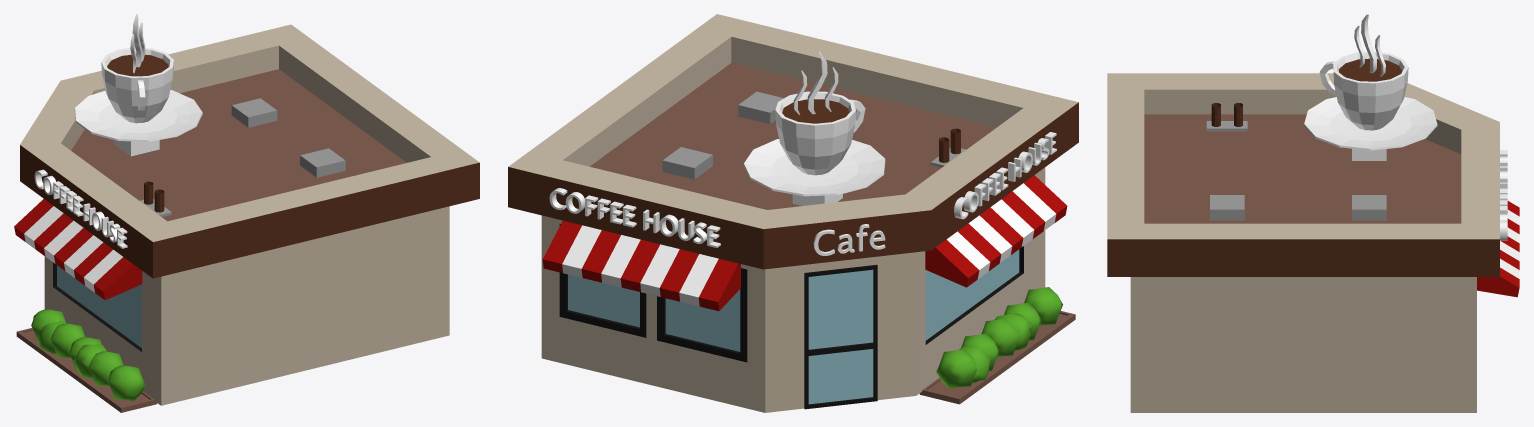
Rendered from Shop_2.fbx.
The picture shows the model from 3 angles, left to right: view 1: azimuth 30°, elevation 25°; view 2: azimuth 150°, elevation 25°; view 3: azimuth 270°, elevation 25°; orthographic projection. The views are drawn at different scales.
Parts seen in each view (by area): view 1: Shop; view 2: Shop; view 3: Shop.
Part boxes in pixels (x1,y1,x2,y2): Shop: (14, 14, 479, 412); Shop: (508, 14, 1078, 412); Shop: (1107, 14, 1519, 412).
Size of the model in its own units: 0.4577 by 0.3706 by 0.4533.
